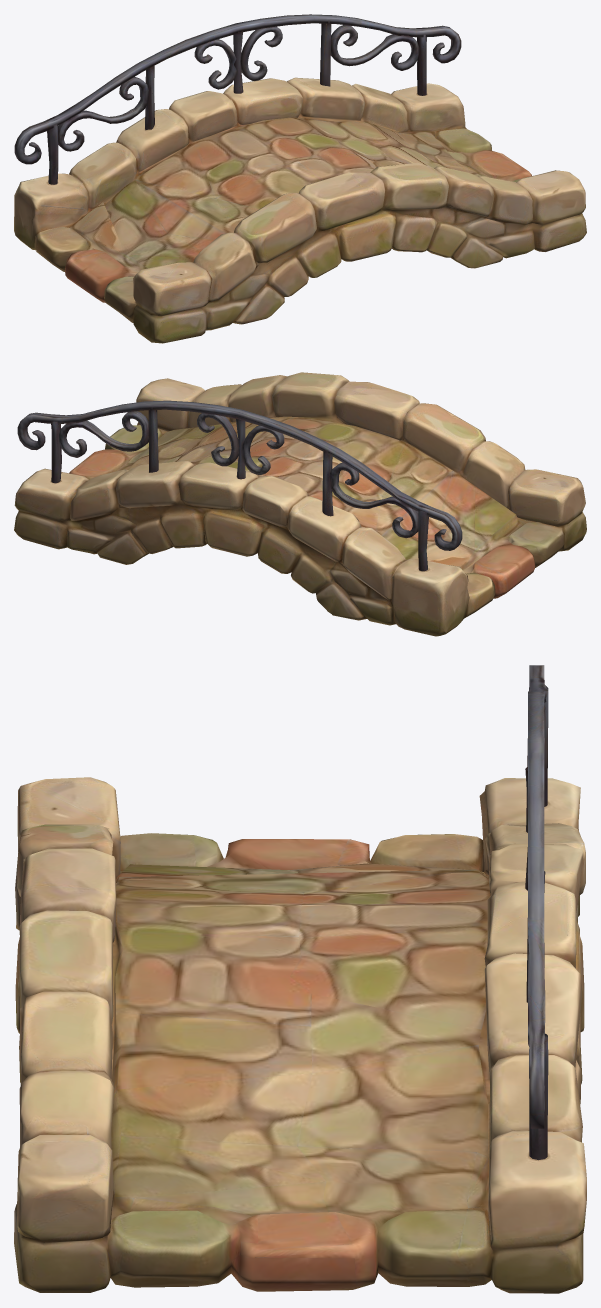
File: bridge.glb
The picture shows the model from 3 angles, top to bottom: view 1: azimuth 30°, elevation 25°; view 2: azimuth 150°, elevation 25°; view 3: azimuth 270°, elevation 25°; orthographic projection. The views are drawn at different scales.
Parts seen in each view (by area): view 1: geometry_0; view 2: geometry_0; view 3: geometry_0.
Boxes of the visible parts, x1,y1,x2,y2 form: geometry_0: [14, 14, 586, 343]; geometry_0: [14, 372, 586, 636]; geometry_0: [14, 665, 586, 1293].
Size of the model in its own units: 0.9507 by 0.3555 by 0.5498.
1 material, 1 textured.
